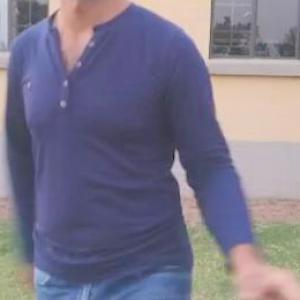follow: (3, 0, 206, 298)
